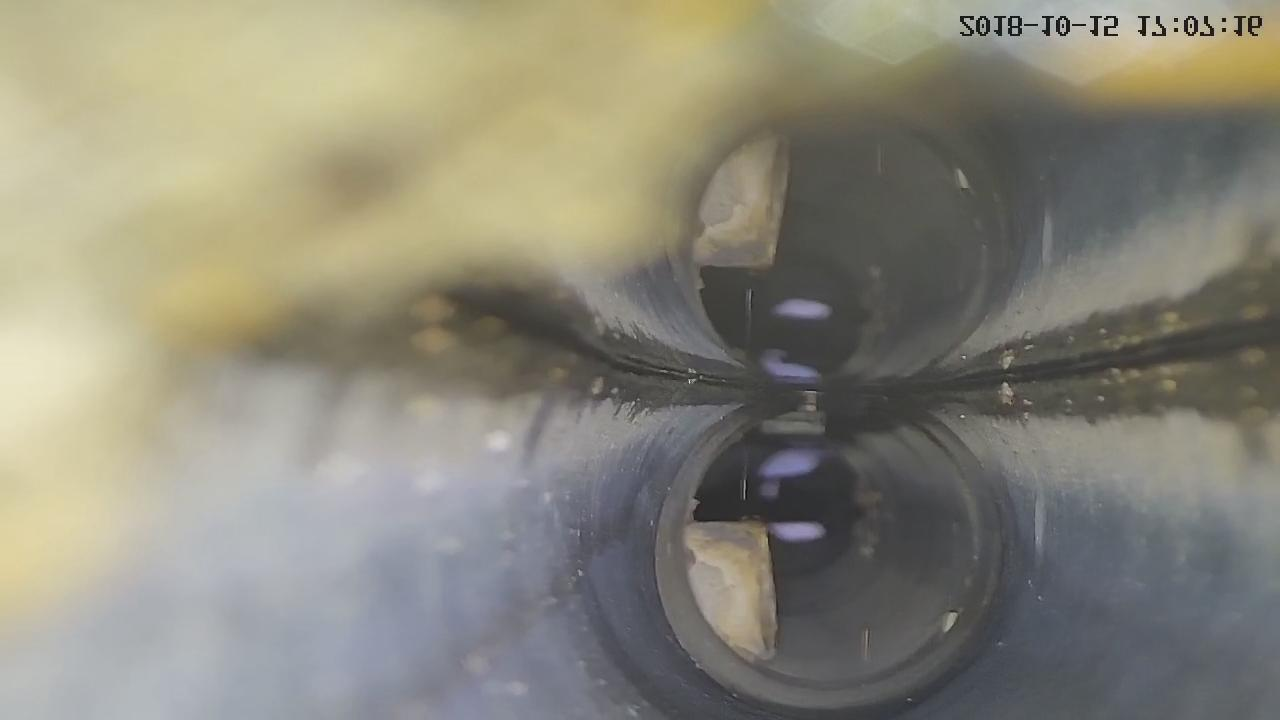ZGAJ: (682, 522, 778, 661)
